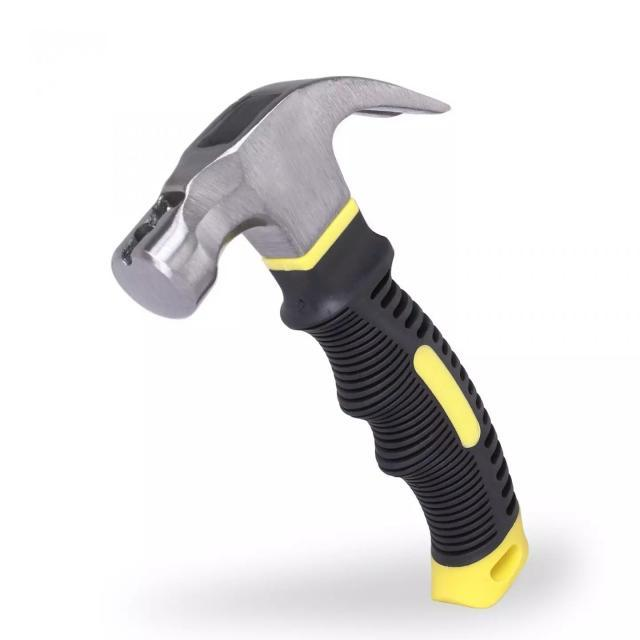hammer: (101, 60, 541, 610)
